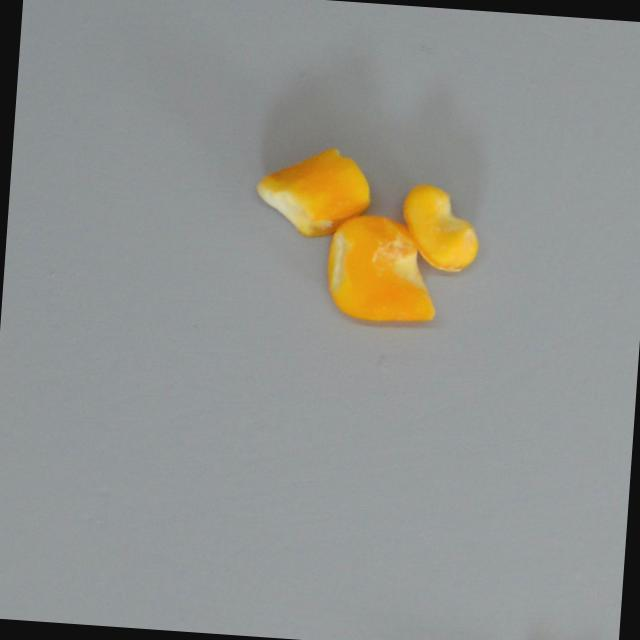pelicula: (323, 212, 440, 325), (254, 141, 373, 239), (398, 181, 482, 273)
